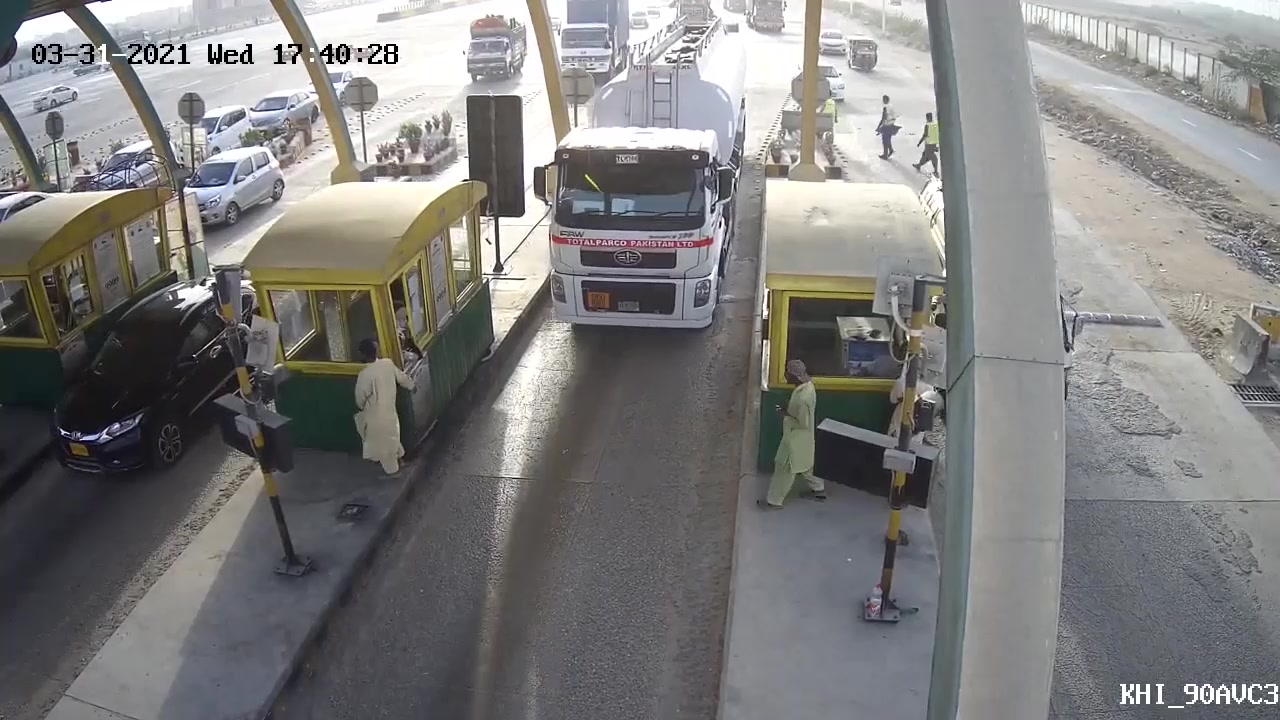F6: (529, 75, 740, 346)
